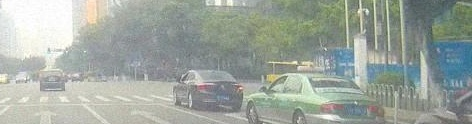L_light: (321, 103, 344, 114), (197, 83, 216, 91)
R_light: (369, 105, 384, 116), (232, 84, 243, 93)
T_light: (327, 78, 336, 80), (210, 72, 216, 74)
day-no: (307, 73, 385, 124)
night-right: (195, 69, 243, 110)
